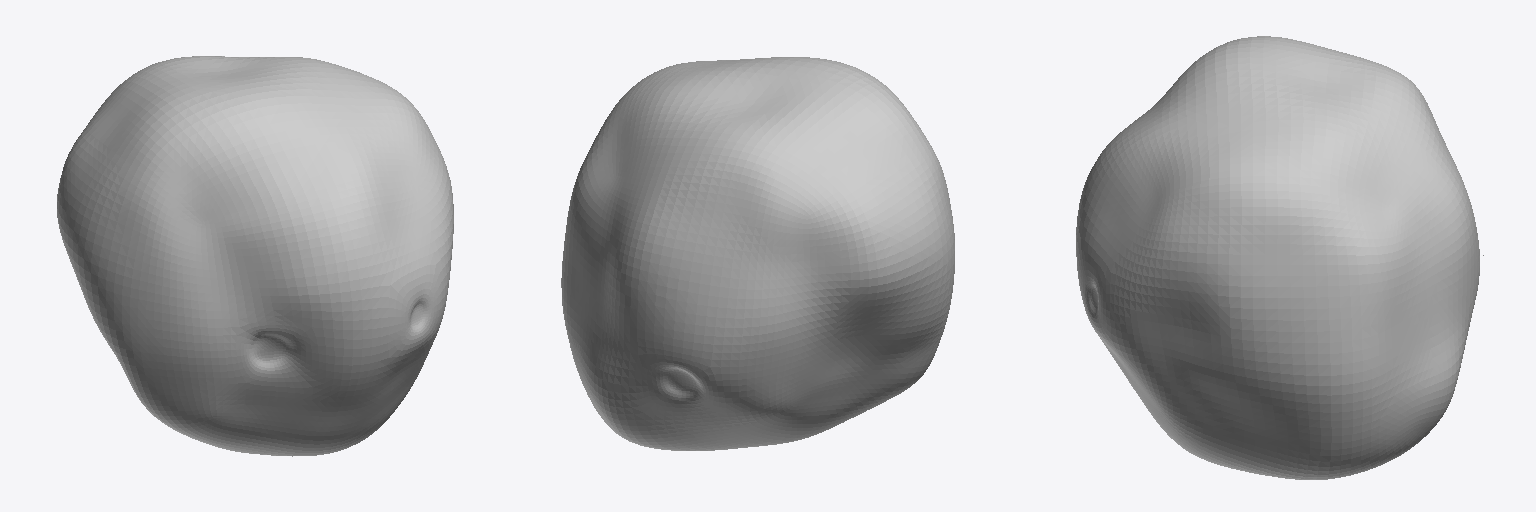
File: asteroid.obj
3 renders of one model, left to right at view 1: azimuth 30°, elevation 25°; view 2: azimuth 150°, elevation 25°; view 3: azimuth 270°, elevation 25°, orthographic.
Parts seen in each view (by area): view 1: 10464_Asteroid_v1_Iterations-2; view 2: 10464_Asteroid_v1_Iterations-2; view 3: 10464_Asteroid_v1_Iterations-2.
Boxes of the visible parts, box(x1,y1,x2,y2) form: 10464_Asteroid_v1_Iterations-2: box(57, 56, 453, 456); 10464_Asteroid_v1_Iterations-2: box(561, 57, 954, 450); 10464_Asteroid_v1_Iterations-2: box(1076, 36, 1479, 479).
Bounding box in the file's own units: 1365 × 1383 × 1390.